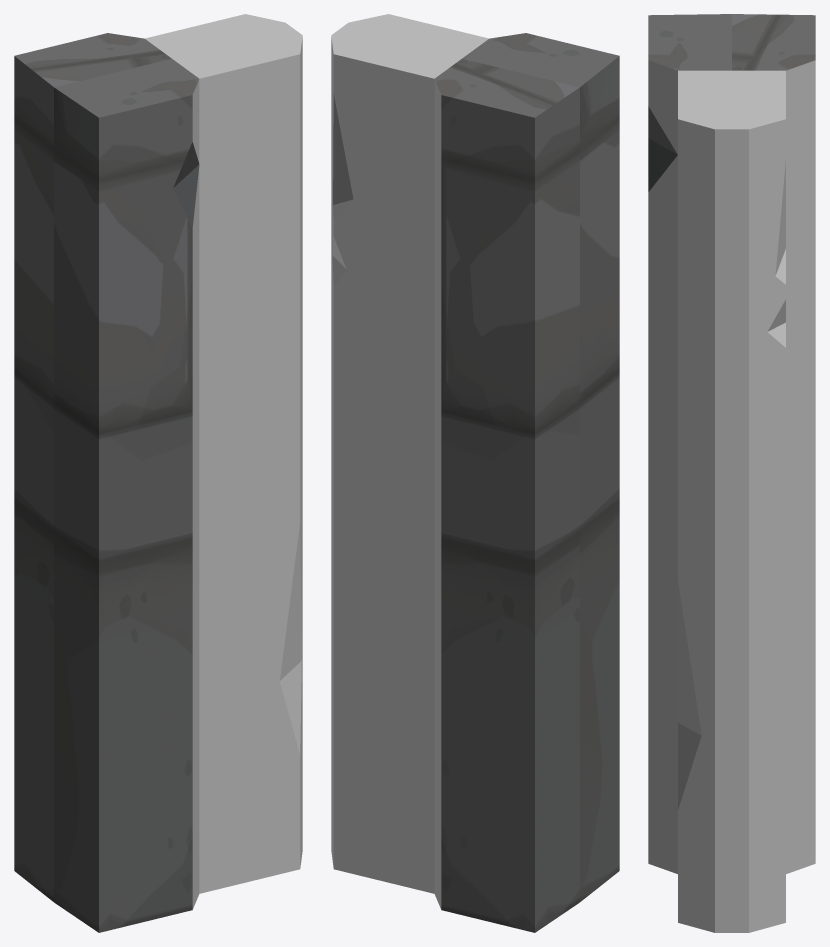
The model's file is SM_Bld_Bridge_L_Pillar_End_01.fbx.
3 renders of one model, left to right at view 1: azimuth 30°, elevation 25°; view 2: azimuth 150°, elevation 25°; view 3: azimuth 270°, elevation 25°, orthographic.
Parts seen in each view (by area): view 1: SM_Bld_Bridge_L_Pillar_End_01; view 2: SM_Bld_Bridge_L_Pillar_End_01; view 3: SM_Bld_Bridge_L_Pillar_End_01.
Boxes of the visible parts, x1,y1,x2,y2 form: SM_Bld_Bridge_L_Pillar_End_01: [14, 14, 302, 932]; SM_Bld_Bridge_L_Pillar_End_01: [331, 14, 619, 932]; SM_Bld_Bridge_L_Pillar_End_01: [648, 14, 815, 932].
Bounding box in the file's own units: 92.41 × 300 × 56.54.
